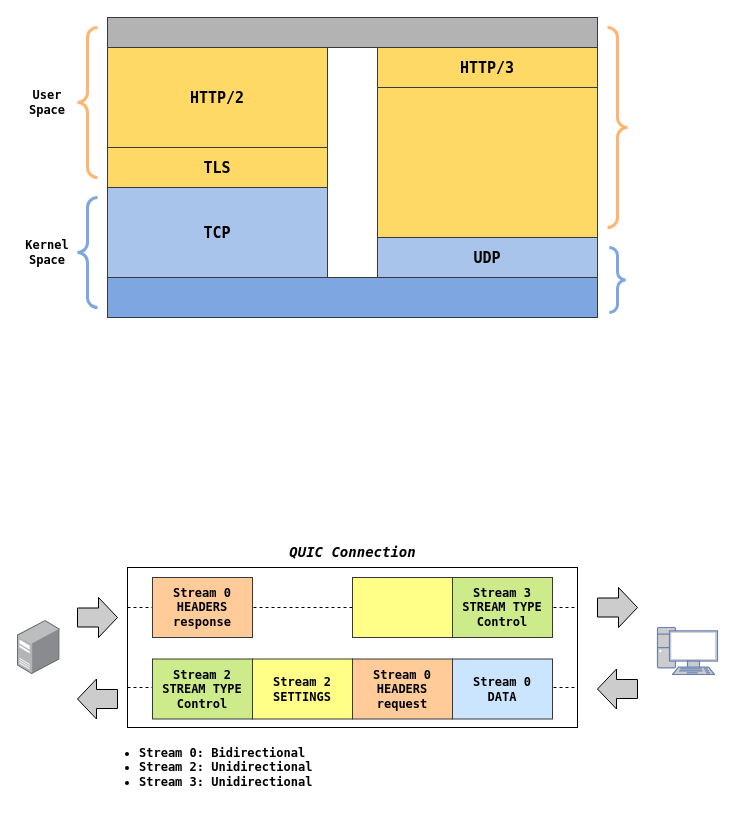
Image size: 736x825. Some labels were removed from this diagram. The centre of each missing label's shape, as x and y in pixels:
Client: (x=687, y=650)
HTTP Semantics: (x=352, y=32)
IP: (x=352, y=297)
QUIC: (x=487, y=162)
Server: (x=38, y=647)
Stream 3 SETTINGS: (x=402, y=607)
